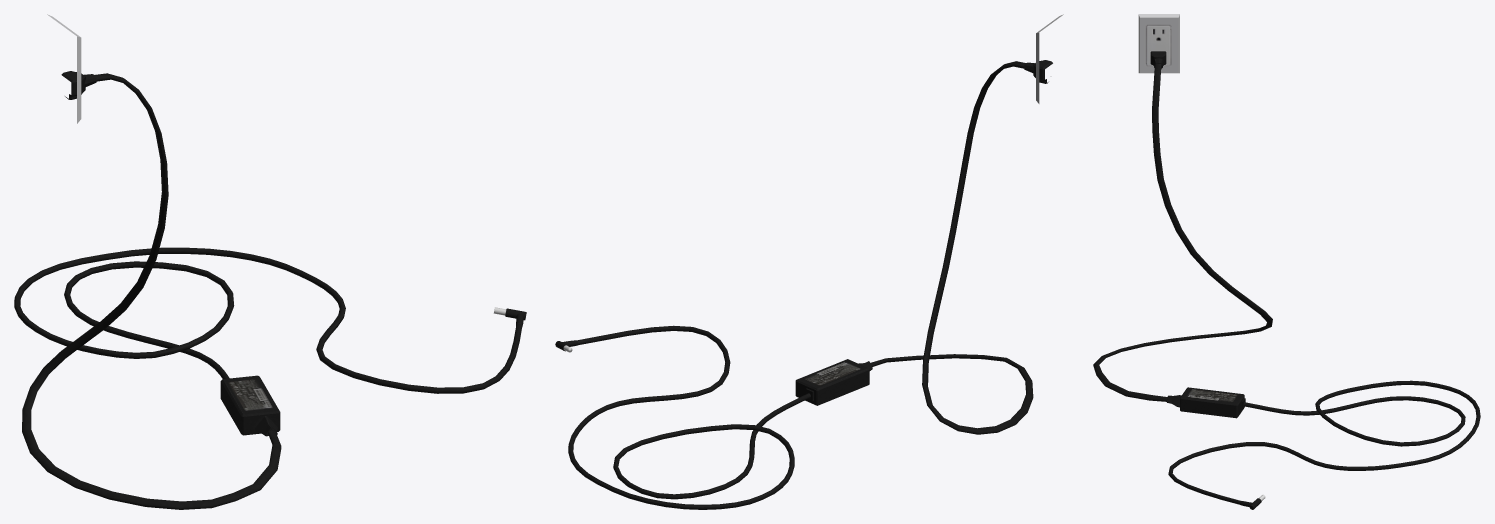
Rendered from low_poly_pc_cable.glb.
3 views of the same model, side by side, from view 1: azimuth 30°, elevation 25°; view 2: azimuth 150°, elevation 25°; view 3: azimuth 270°, elevation 25° (orthographic). The views are drawn at different scales.
Visible parts, largest first — view 1: Pc_cableMesh; view 2: Pc_cableMesh; view 3: Pc_cableMesh, Conection.
Part boxes in pixels (box(x1,y1,x2,y2)): Pc_cableMesh: box(14, 71, 526, 509); Pc_cableMesh: box(555, 60, 1052, 509); Pc_cableMesh: box(1093, 51, 1480, 509); Conection: box(1138, 14, 1179, 73).
Size of the model in its own units: 2.83 by 2.41 by 2.63.
Materials: 1 (1 with a texture image).
